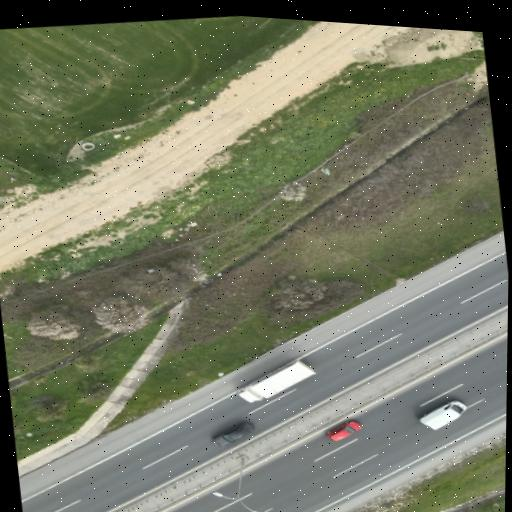car: (419, 401, 466, 430), (212, 421, 254, 445), (326, 421, 361, 440)
truck: (238, 359, 315, 401)
